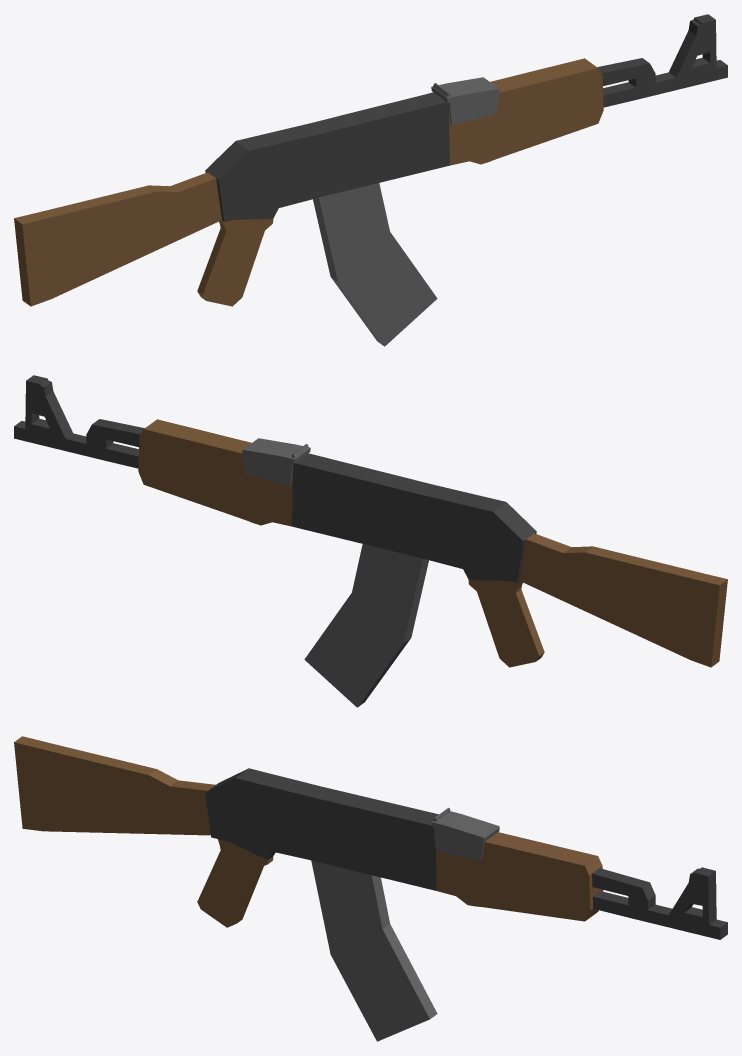
Rendered from low-poly-stylized-rifle-ak-47__AK_47_Lowpoly__AK_47_Lowpoly__AK_47.glb.
3 renders of one model, top to bottom at view 1: azimuth 30°, elevation 25°; view 2: azimuth 150°, elevation 25°; view 3: azimuth 330°, elevation 25°, orthographic.
Parts seen in each view (by area): view 1: AK_Body, AK_Mag, Ak_exit, Ak_handler, Cube.001; view 2: AK_Body, AK_Mag, Ak_exit, Ak_handler, Cube.001; view 3: AK_Body, AK_Mag, Ak_exit, Ak_handler, Cube.001.
Part boxes in pixels (bbox=[...]): AK_Body: bbox=[14, 58, 603, 306]; AK_Mag: bbox=[313, 183, 437, 346]; Ak_exit: bbox=[597, 14, 727, 107]; Ak_handler: bbox=[197, 208, 278, 306]; Cube.001: bbox=[431, 77, 499, 124]; AK_Body: bbox=[138, 419, 727, 667]; AK_Mag: bbox=[304, 544, 428, 707]; Ak_exit: bbox=[14, 375, 144, 468]; Ak_handler: bbox=[463, 569, 544, 667]; Cube.001: bbox=[242, 438, 310, 485]; AK_Body: bbox=[14, 736, 603, 921]; AK_Mag: bbox=[311, 860, 437, 1041]; Ak_exit: bbox=[592, 867, 727, 939]; Ak_handler: bbox=[197, 839, 275, 927]; Cube.001: bbox=[431, 807, 499, 861].
Size of the model in its own units: 10.02 by 3.34 by 0.3903.
Materials: 1 (1 with a texture image).
